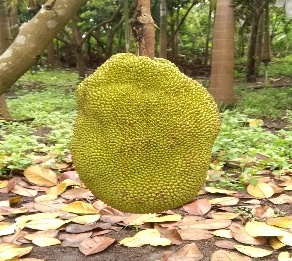Mit: (70, 53, 220, 214)
